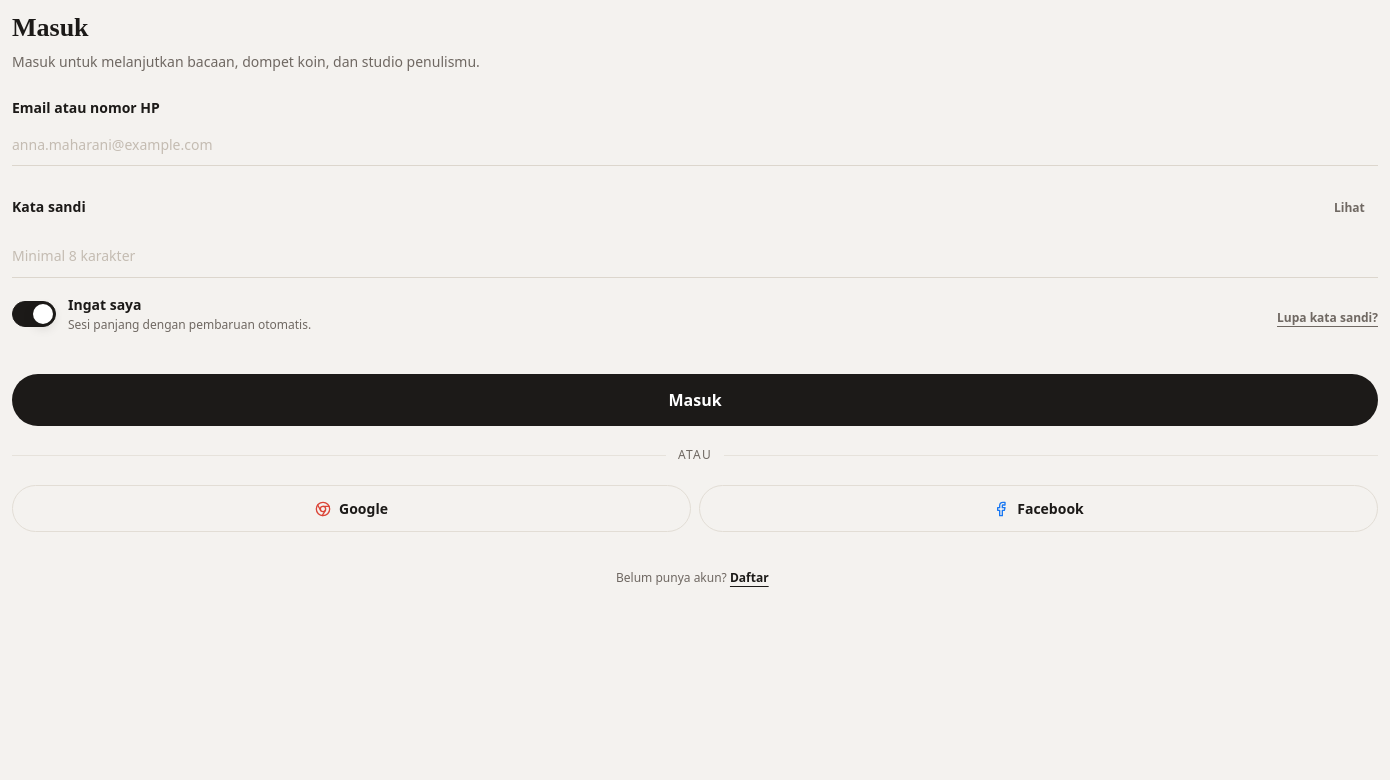
Test case: formulir masuk · FR-AUTH-09 › kata sandi pendek ditolak dengan kebijakan 8 karakter
The image size is (1390, 780).
In the field labelled "Email atau nomor HP": (695, 146) x1=12 y1=125 x2=1378 y2=166, type "annamaharani@example.com"
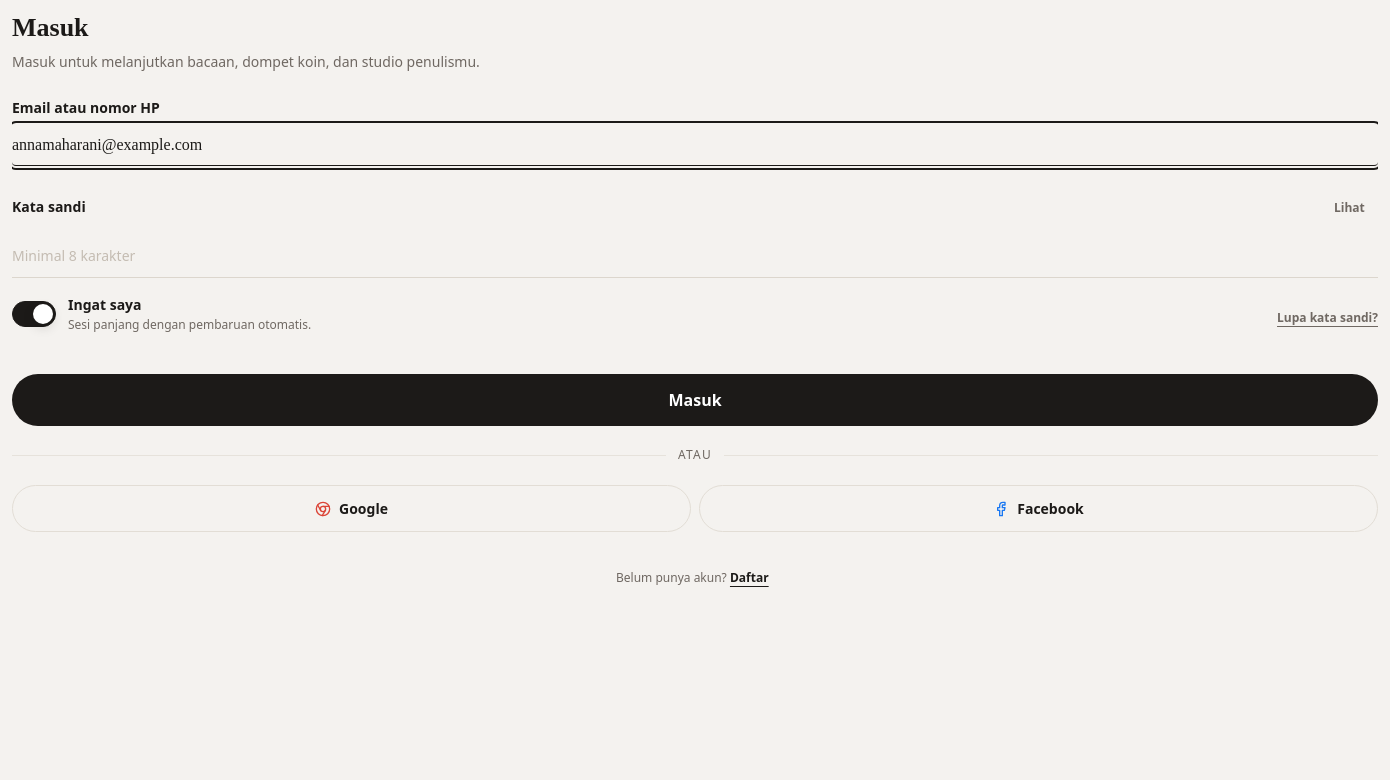
In the password field labelled "Kata sandi": (695, 257) x1=12 y1=236 x2=1378 y2=278, type "rahasia"
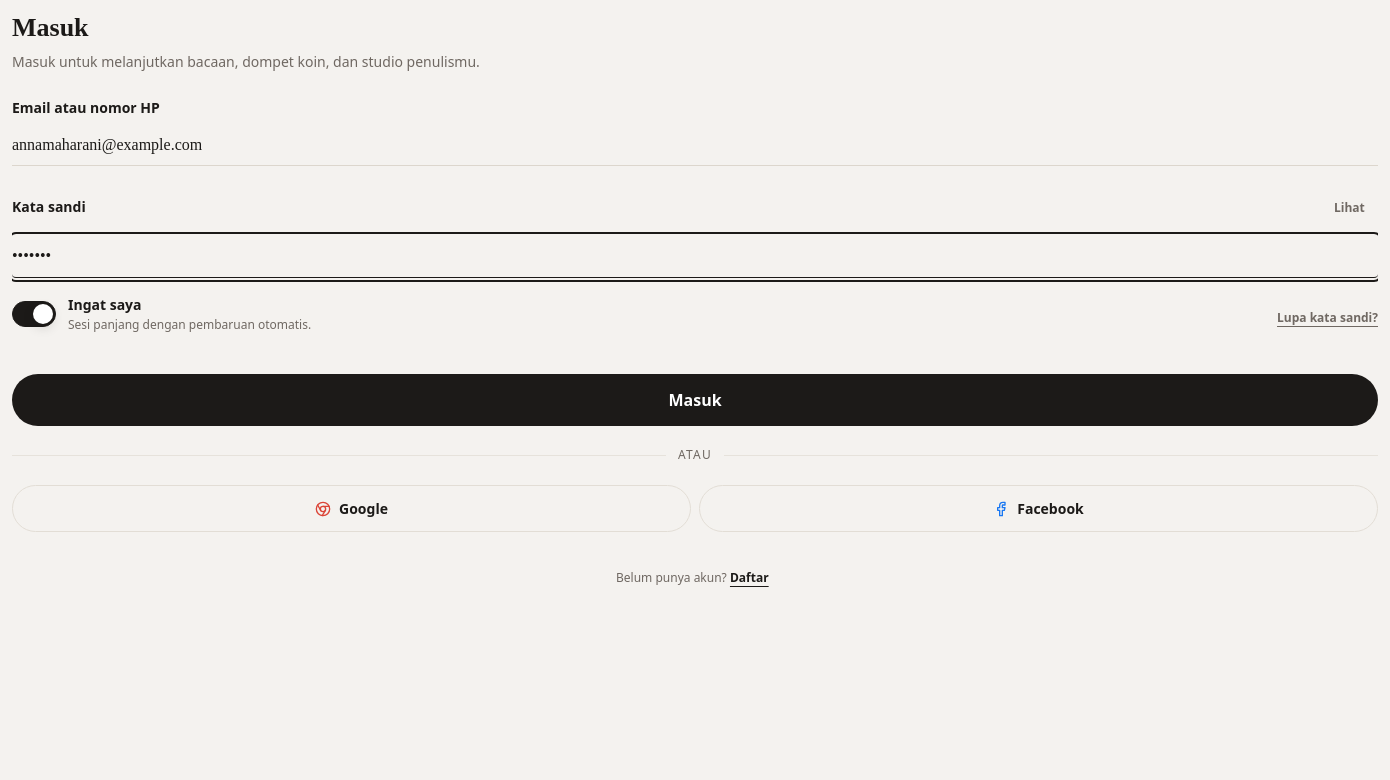
Click the button "Masuk": (695, 400) x1=12 y1=374 x2=1378 y2=426
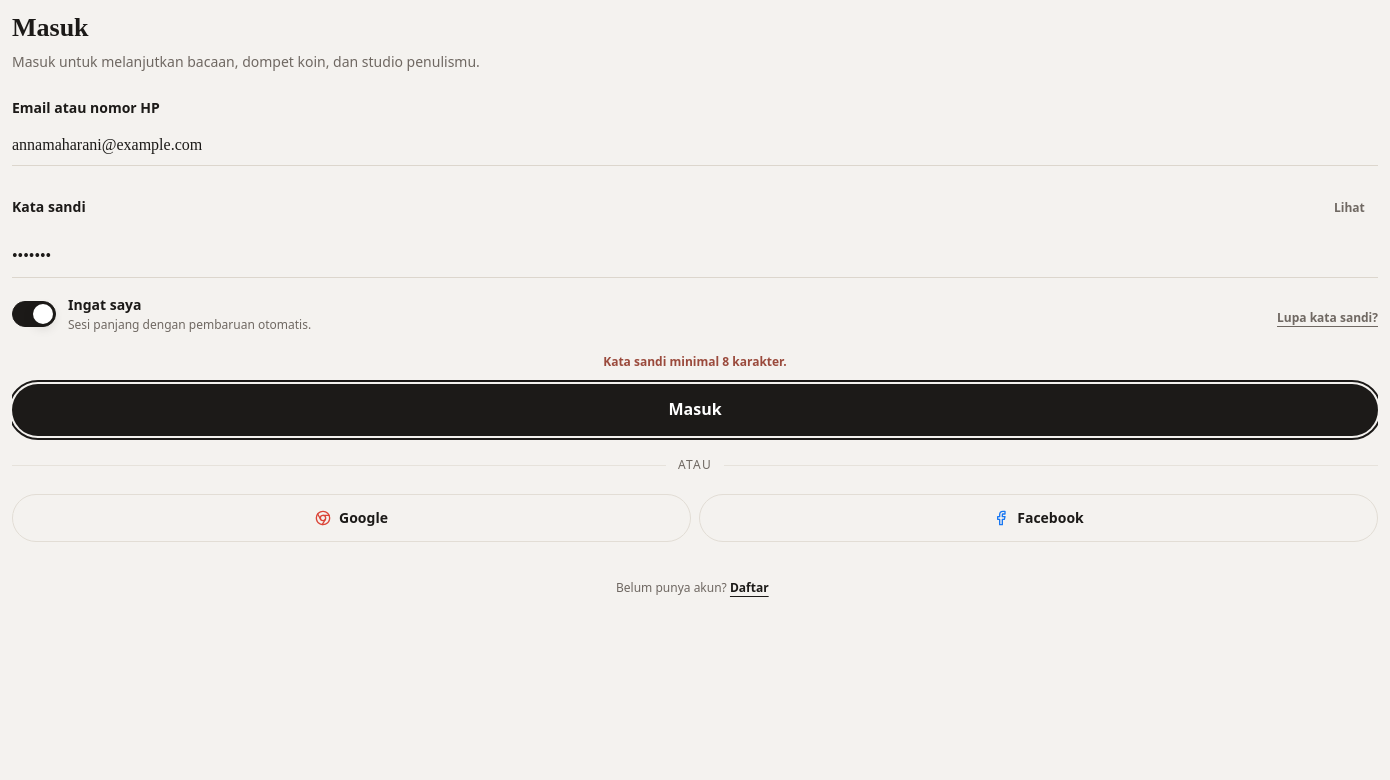
Expected: the message reads "Kata sandi minimal 8 karakter.", x1=603 y1=353 x2=787 y2=370
